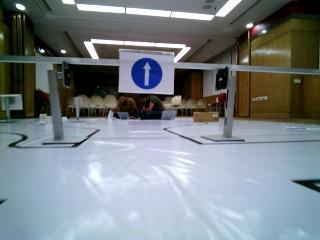straight: (119, 46, 176, 95)
